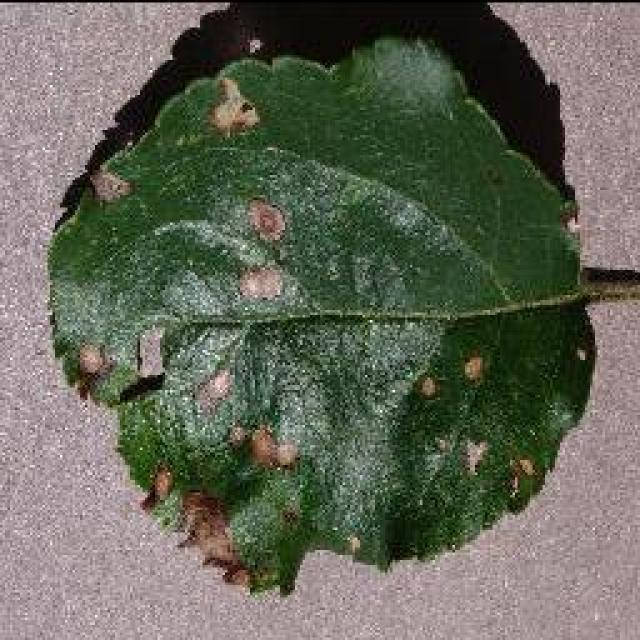apple scab disease: (42, 0, 600, 595)
